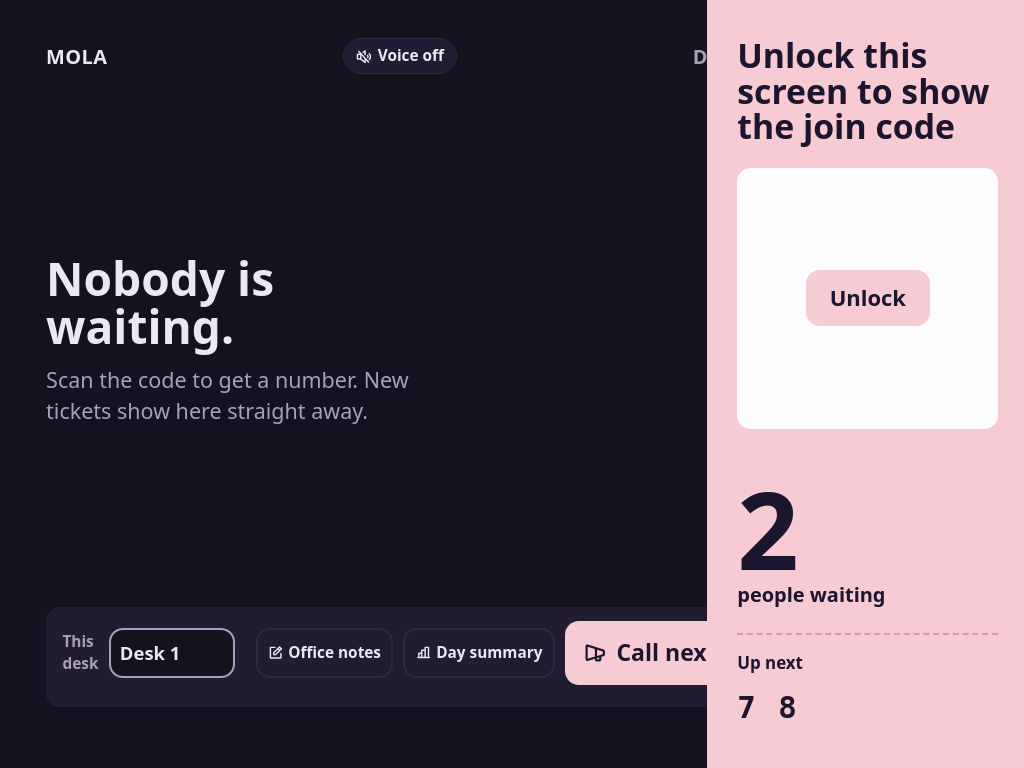
Test: screen speech › lets a bad_ticket error reach staff controls while speech is pending
Click the button "Voice off" at {"x": 400, "y": 56}, box [343,38,457,74]
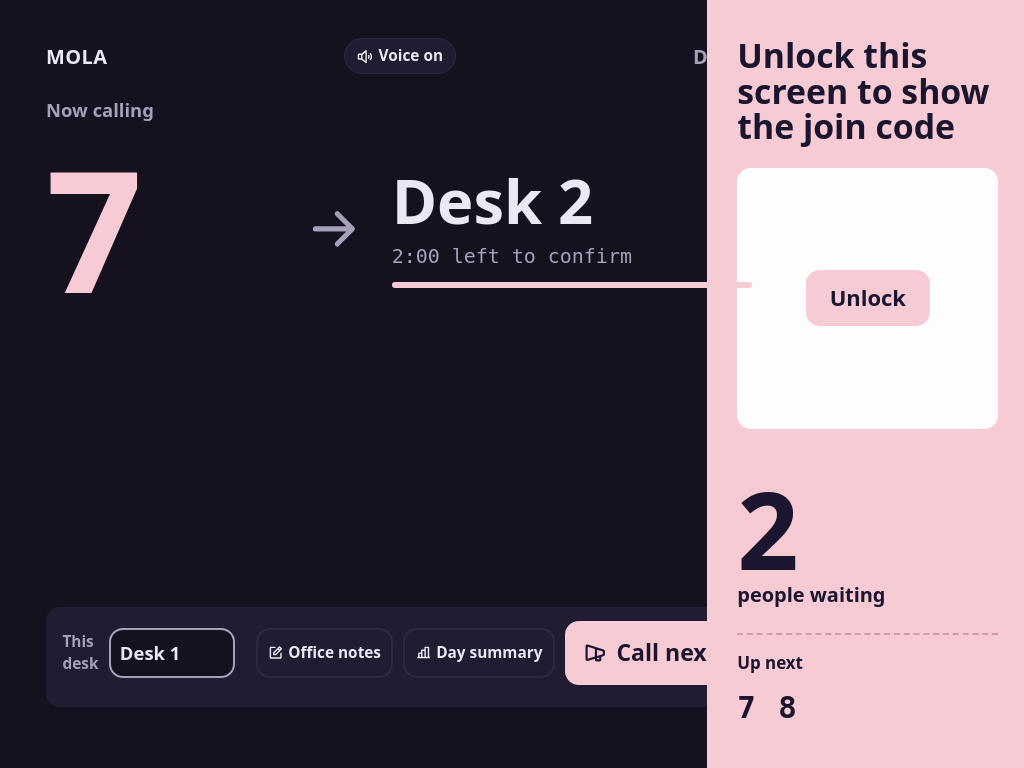
Click the button "Call next" at {"x": 650, "y": 653}, box [565,621,735,685]
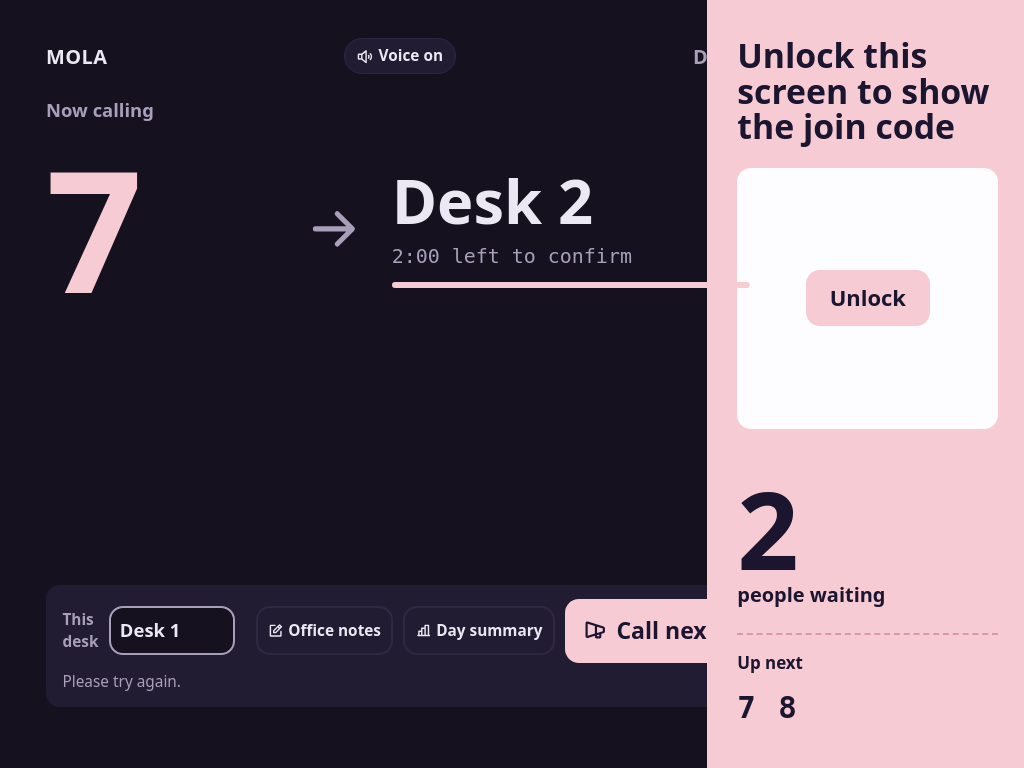
Check: the button "Call next" is enabled, box [565,599,735,663]
Check: the text "Please try again." is shown, box [62,670,181,692]
